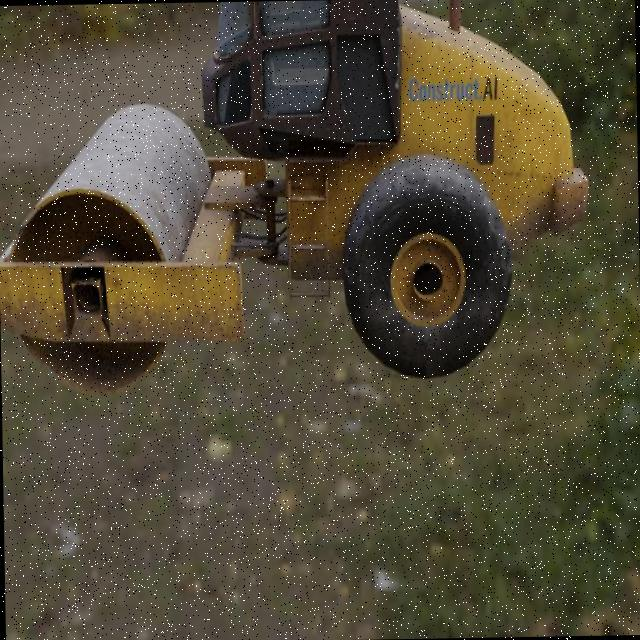Roller: (0, 0, 592, 397)
